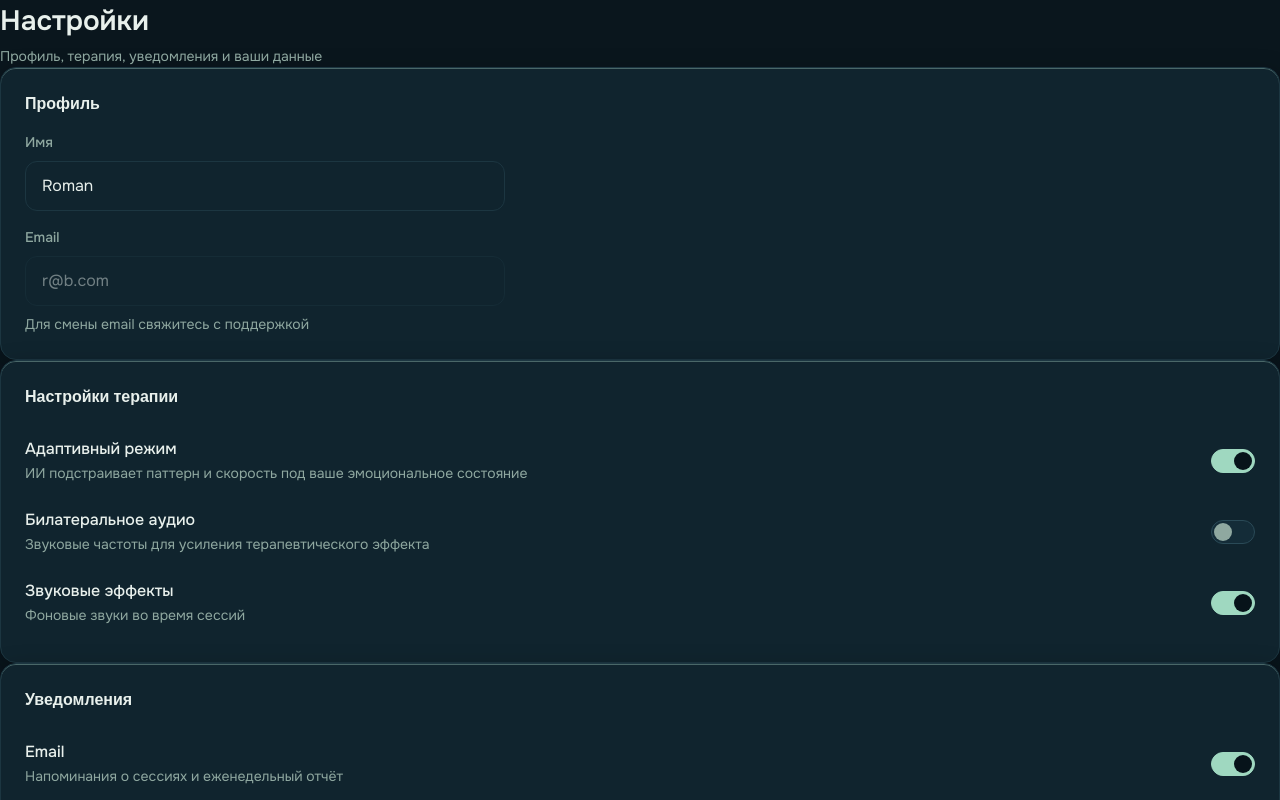
Test case: SettingsPage (#150) › сохранение › успех → updateProfile с именем и настройками, статус «Сохранено»
The width and height of the screenshot is (1280, 800).
Replace the text in the field labelled "Имя" with "Новое Имя" at (265, 186), box [25,161,505,211]
(page scrolled)
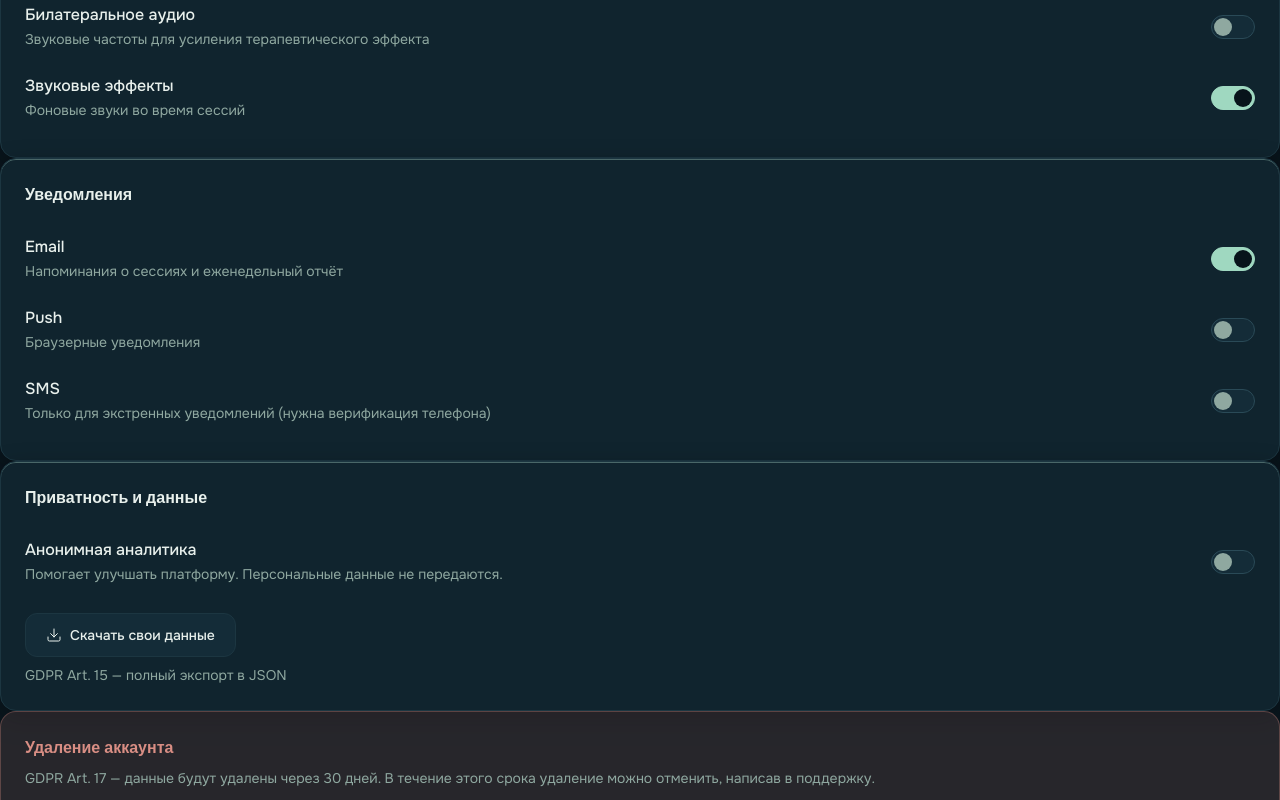
Click the switch named "SMS" at (1233, 400), box [1211,388,1255,412]
(page scrolled)
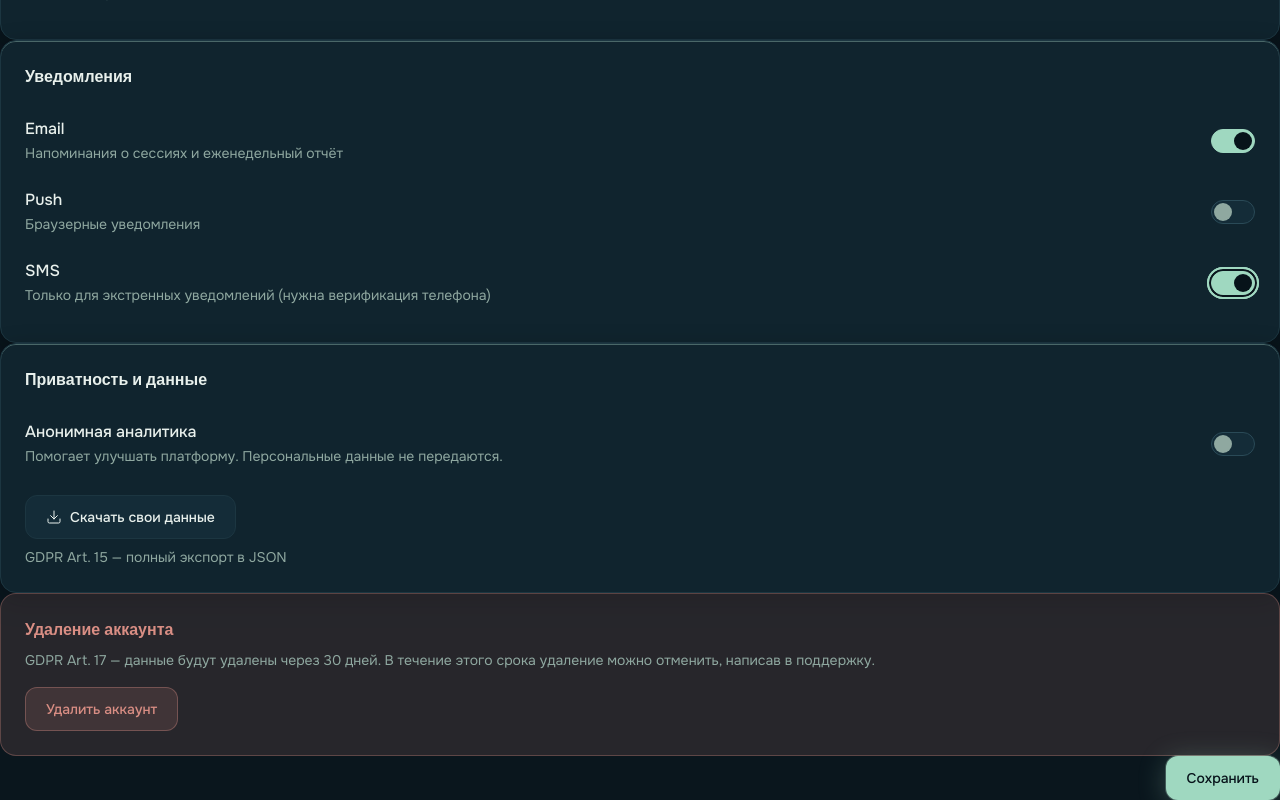
Click the button "Сохранить" at (1223, 778), box [1166,756,1279,799]
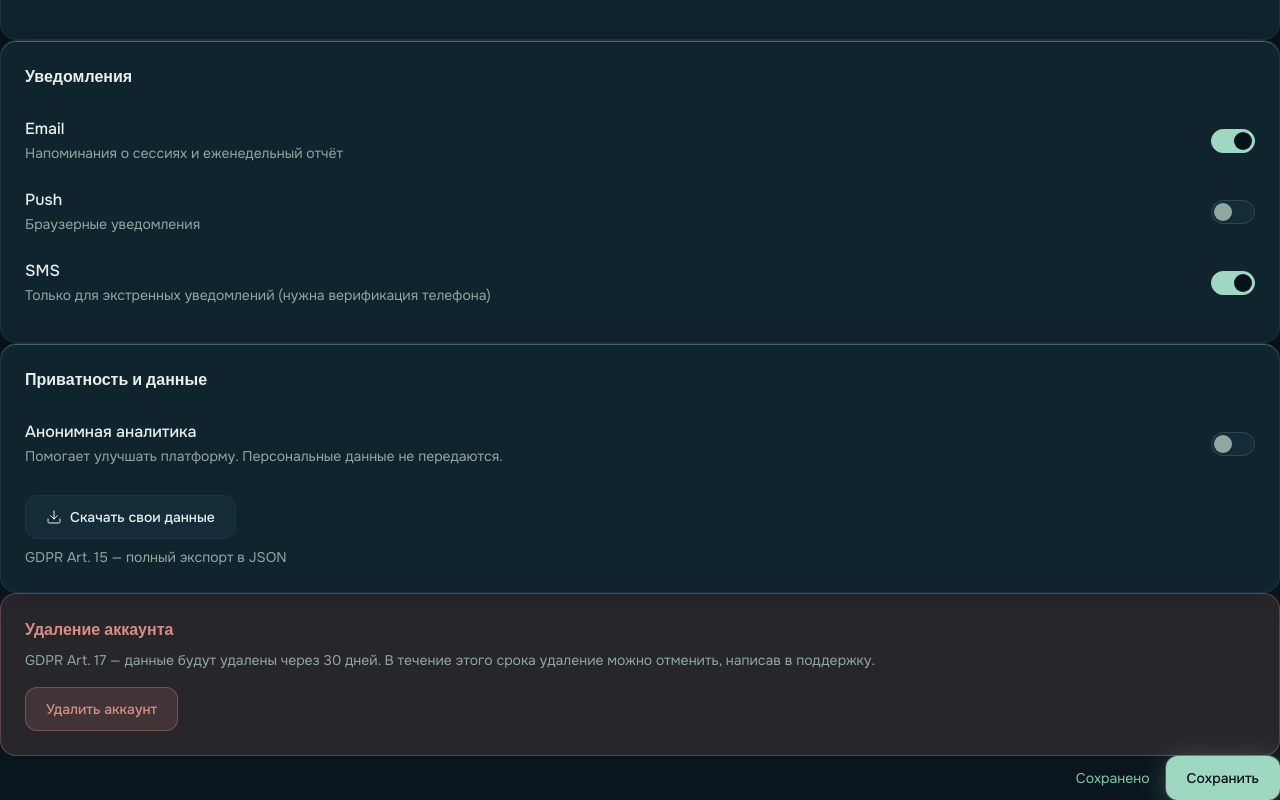
Now the message reads "Сохранено", box [1076,769,1150,787]
